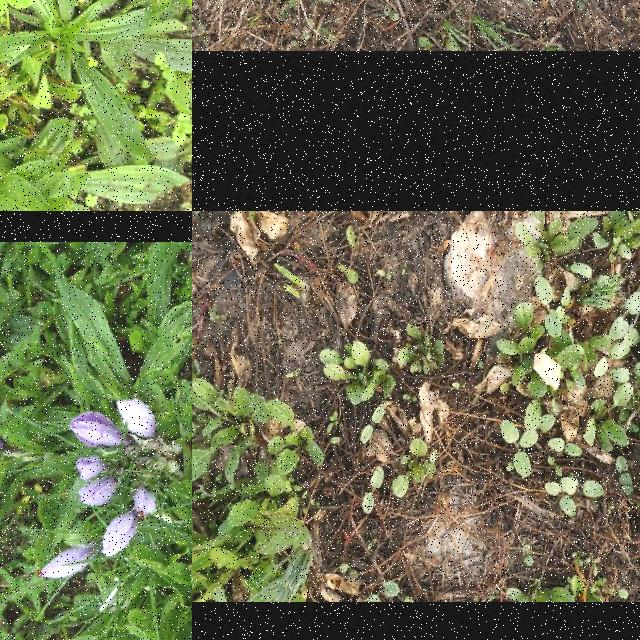flower: (36, 544, 94, 580), (70, 411, 122, 449), (116, 399, 160, 438), (102, 512, 136, 558), (78, 473, 118, 507), (75, 454, 107, 482), (134, 486, 158, 520)
